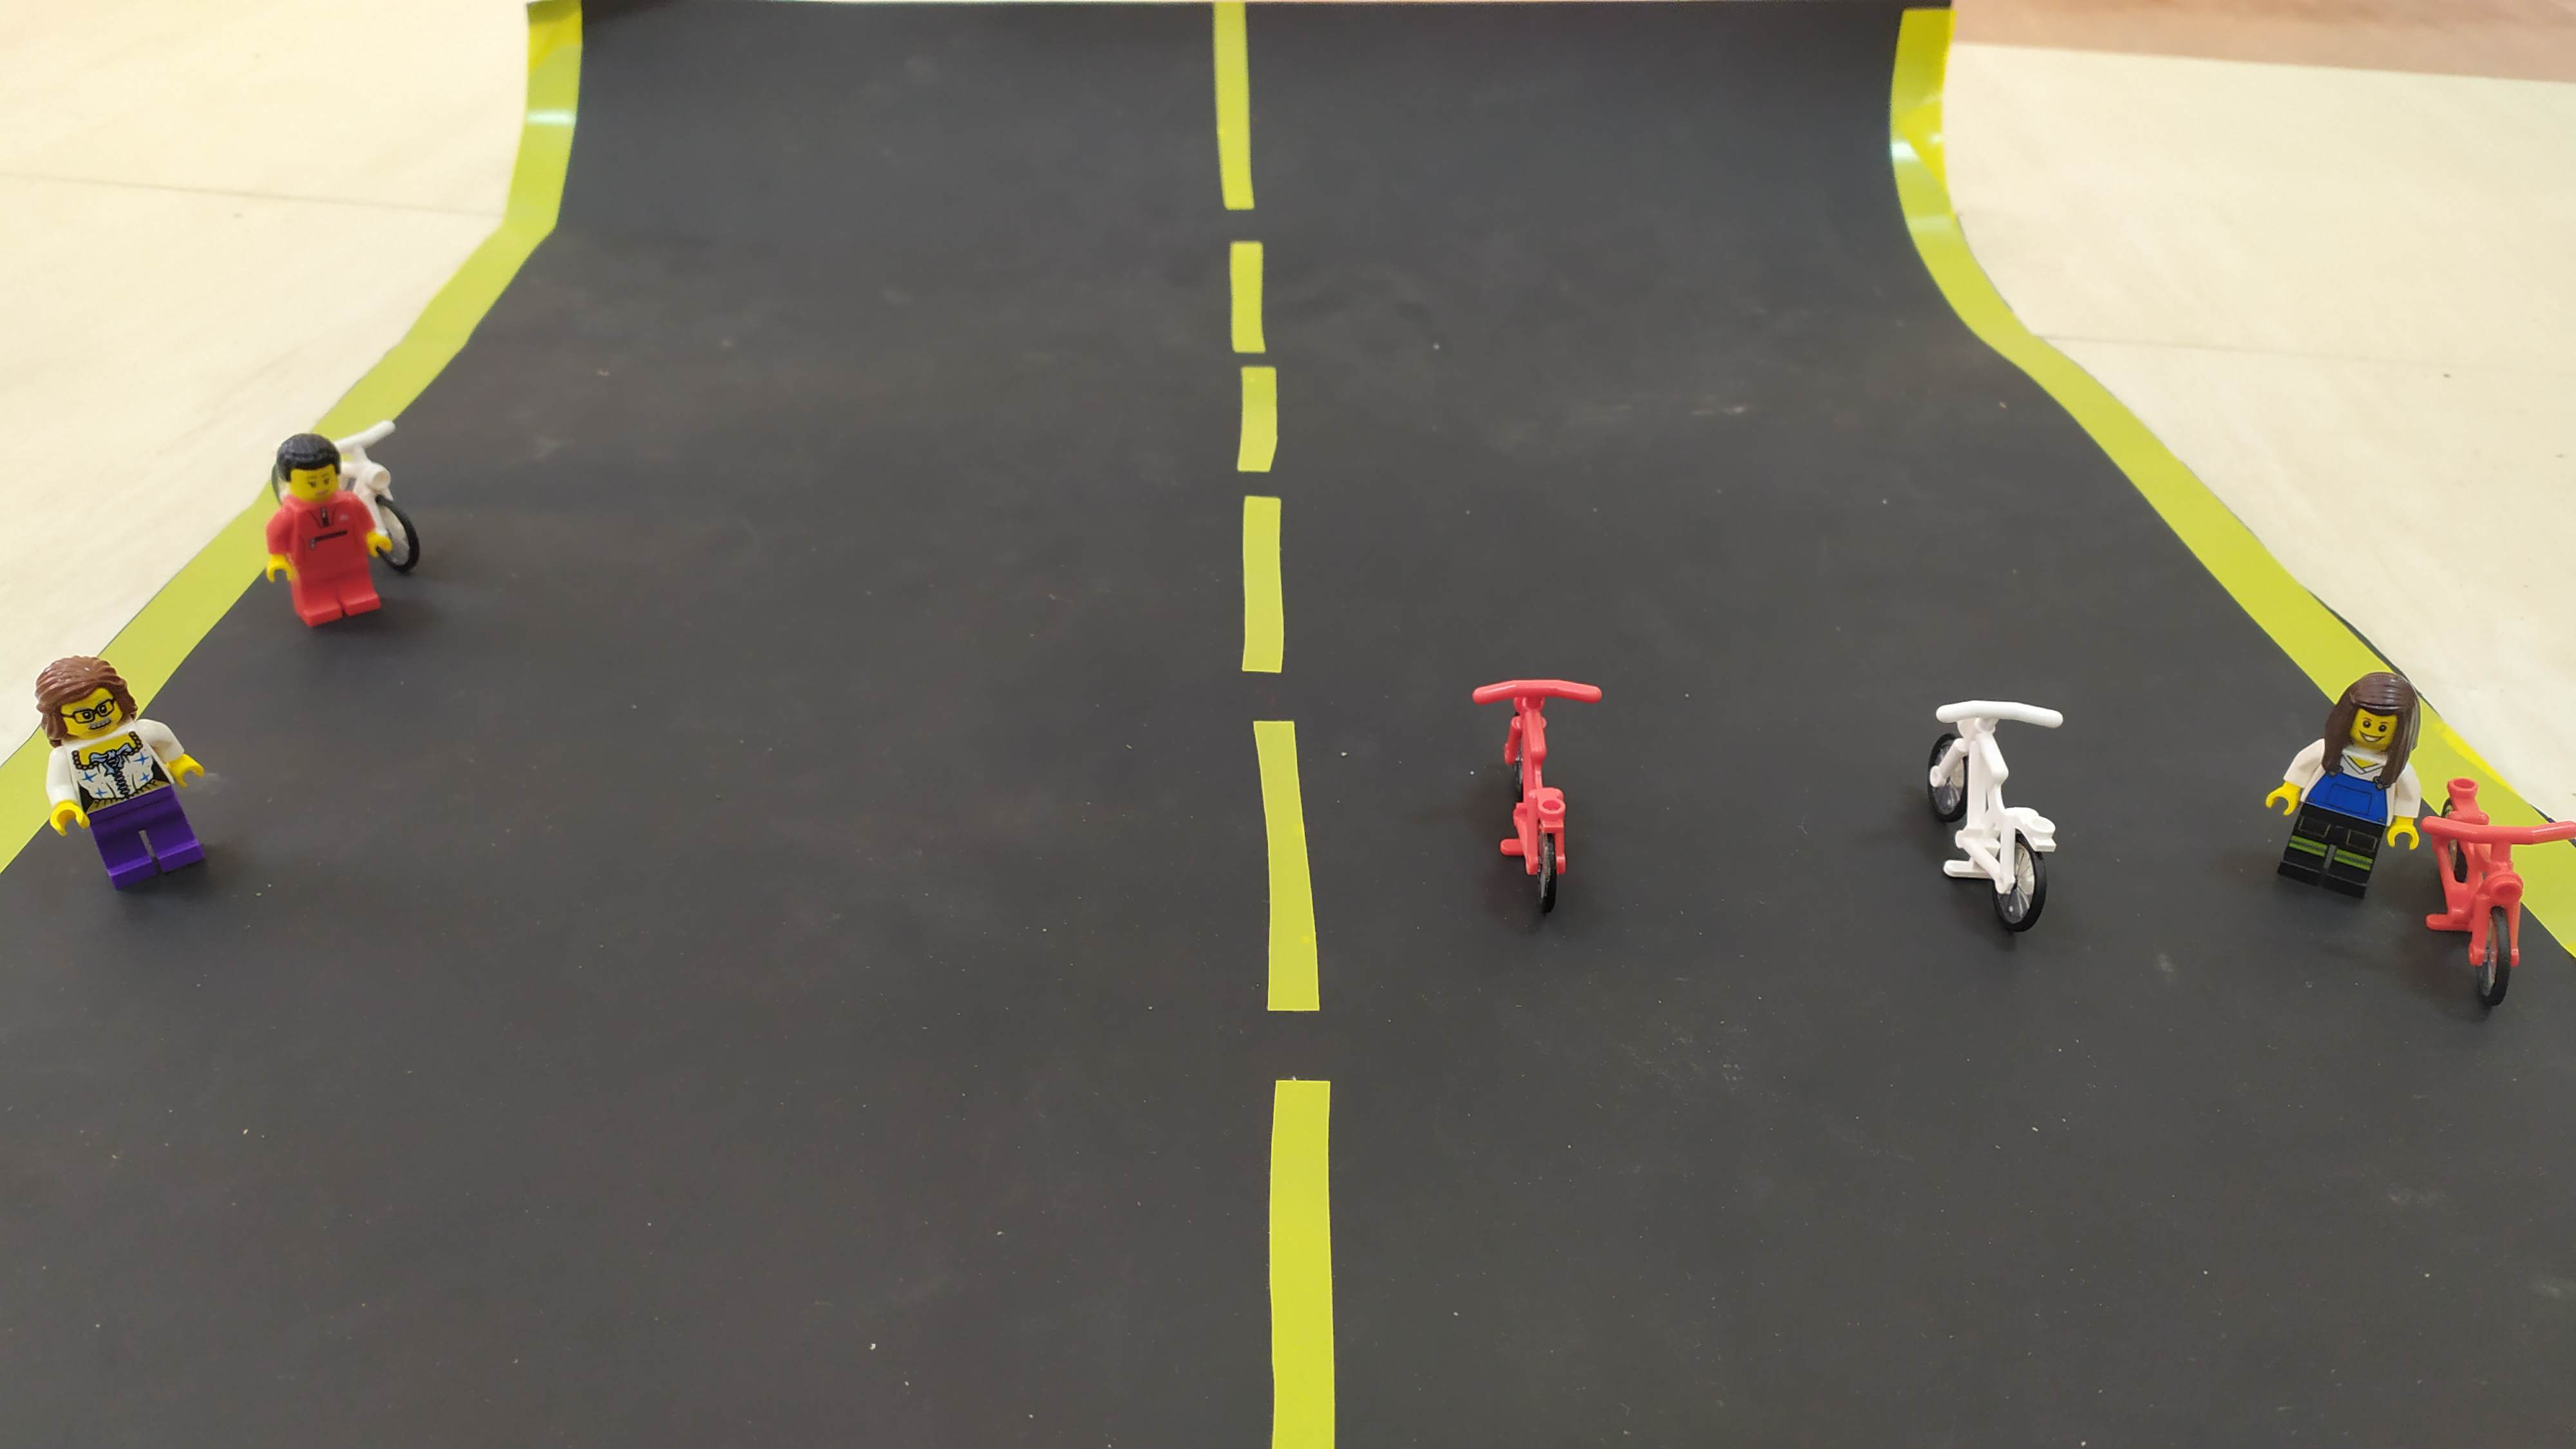Person: (42, 647, 216, 911), (2283, 654, 2425, 911), (254, 422, 396, 621)
